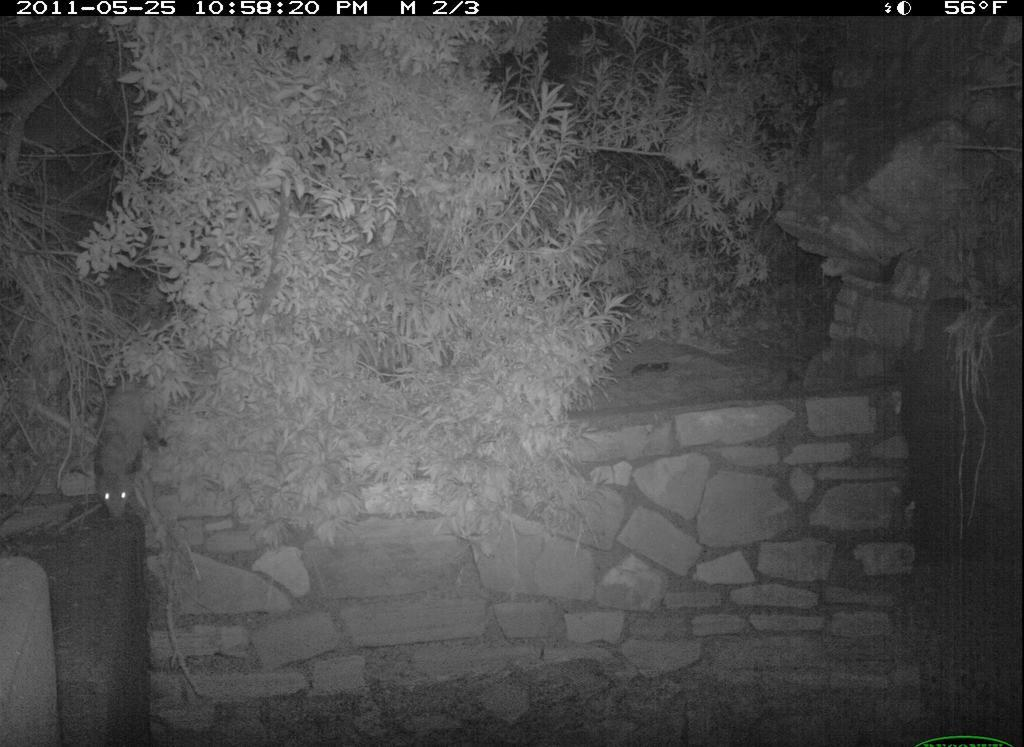opossum: (86, 356, 172, 528)
